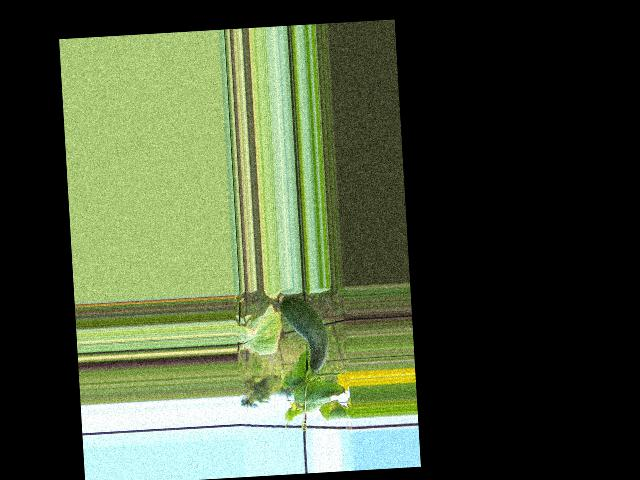cucumber: (278, 294, 330, 373)
